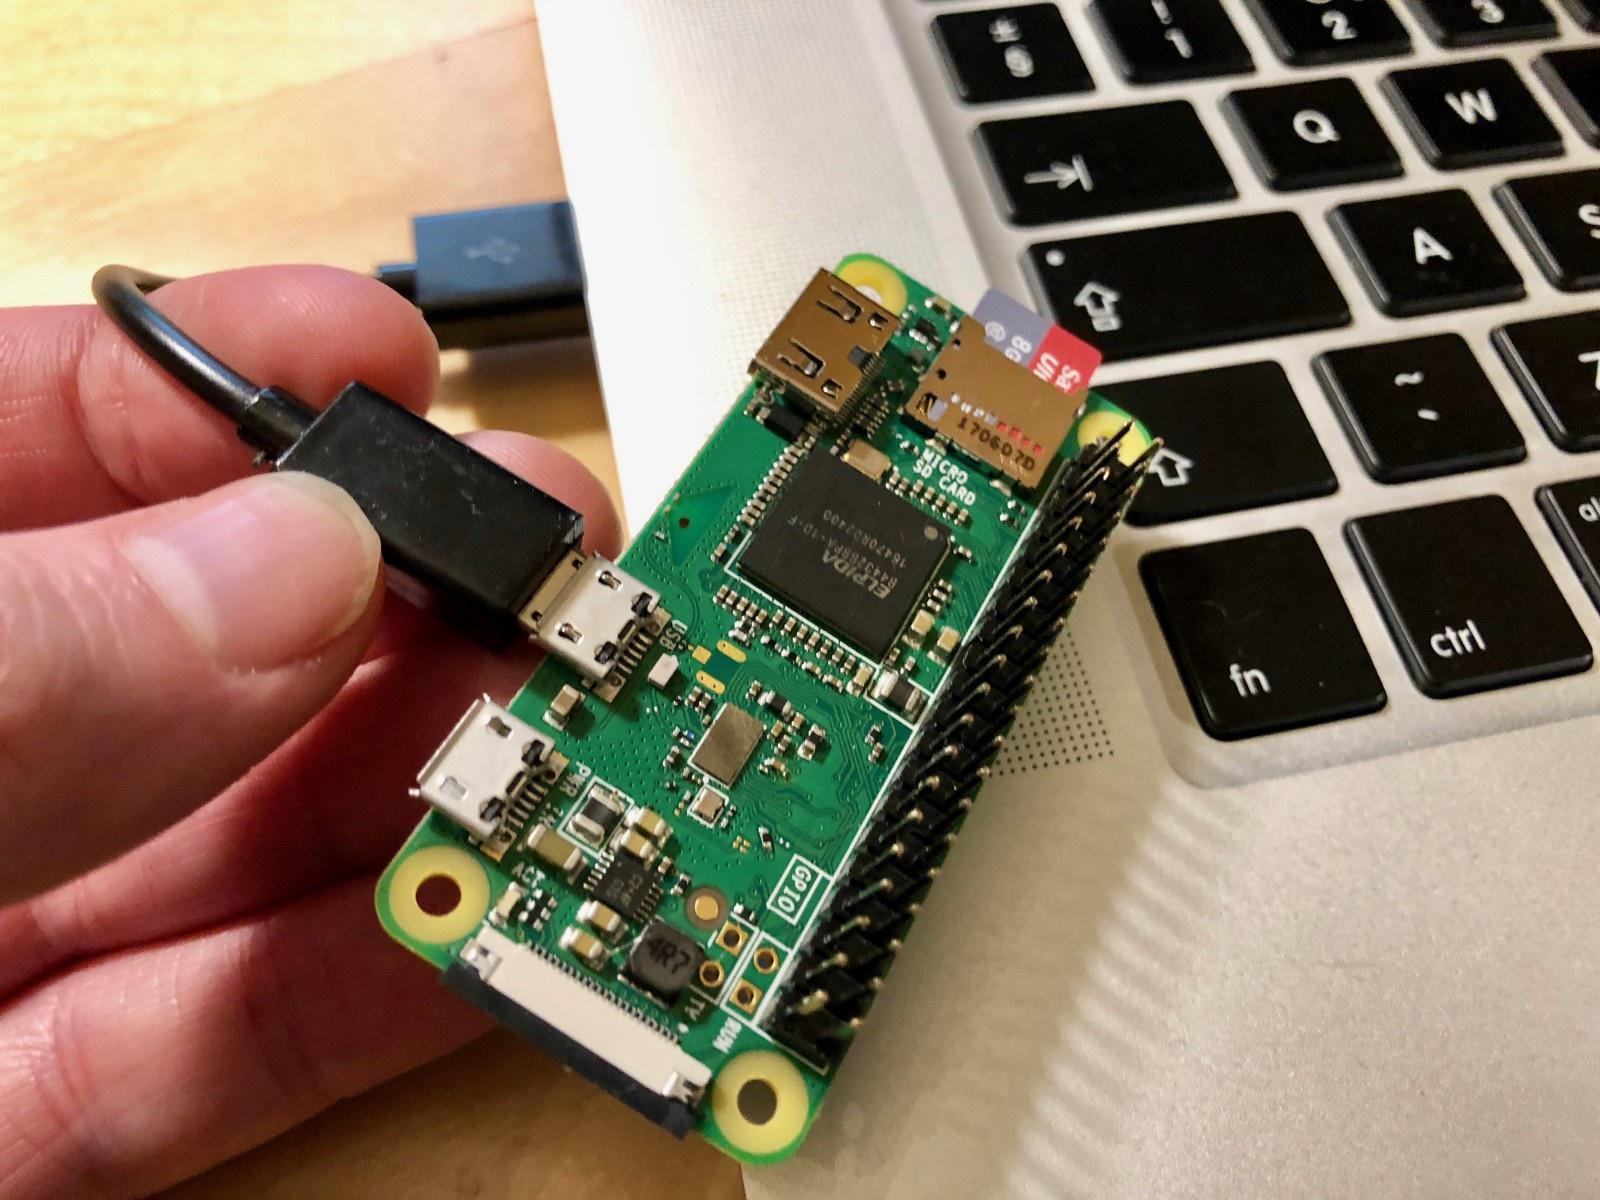bchi: (740, 444, 966, 647)
ethernet: (752, 263, 905, 437)
gpio: (782, 427, 1160, 1053)
